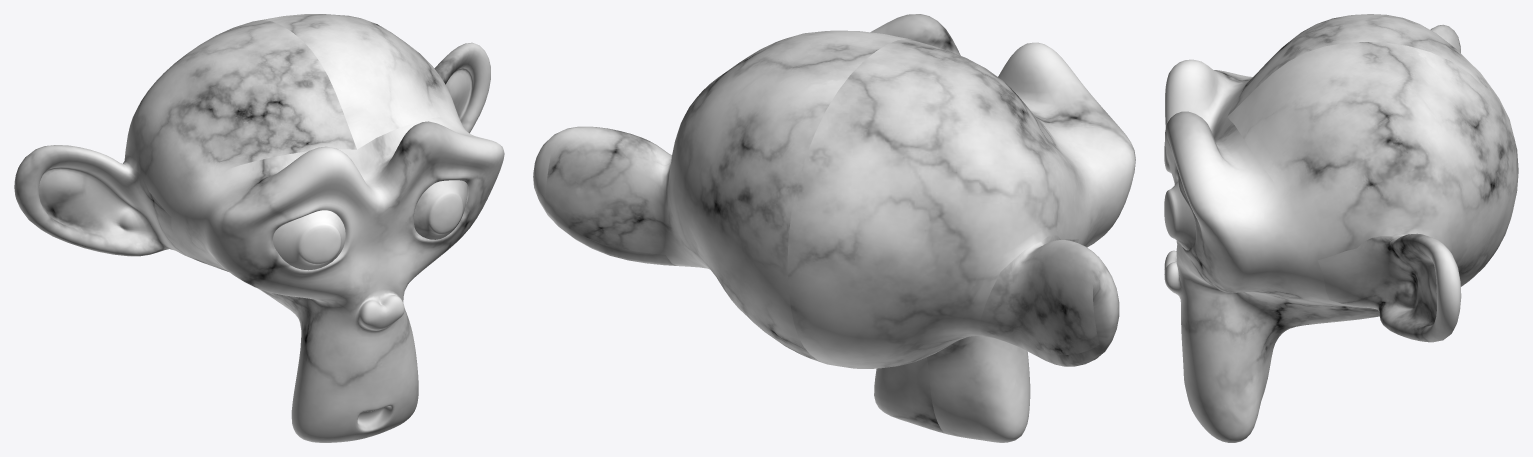
Rendered from suzanne.dae.
3 renders of one model, left to right at view 1: azimuth 30°, elevation 25°; view 2: azimuth 150°, elevation 25°; view 3: azimuth 270°, elevation 25°, orthographic. The views are drawn at different scales.
Visible parts, largest first — view 1: Suzanne; view 2: Suzanne; view 3: Suzanne.
Part boxes in pixels (left/top/right/bottom): Suzanne: left=14, top=14, right=504, bottom=442; Suzanne: left=533, top=14, right=1135, bottom=442; Suzanne: left=1164, top=14, right=1518, bottom=442.
Bounding box in the file's own units: 2.66 × 1.61 × 1.92.
Materials: 1 (1 with a texture image).
